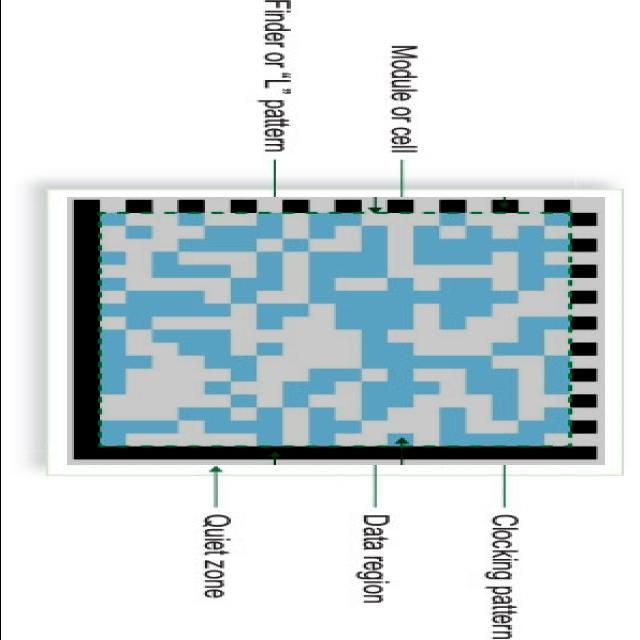DataMatrix: (66, 197, 604, 465)
